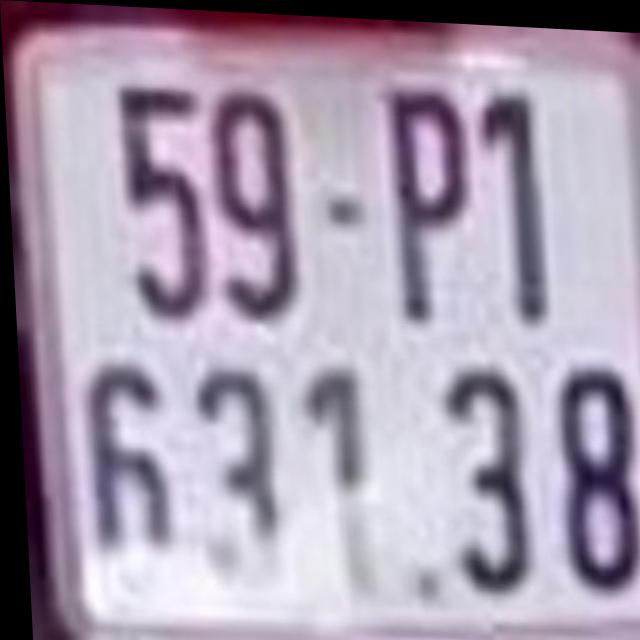1: (292, 357, 389, 604), (478, 82, 559, 318)
3: (436, 352, 536, 593), (188, 361, 277, 594)
5: (113, 78, 209, 317)
6: (75, 353, 173, 602)
8: (552, 361, 639, 582)
9: (207, 79, 299, 318)
P: (382, 79, 479, 326)
